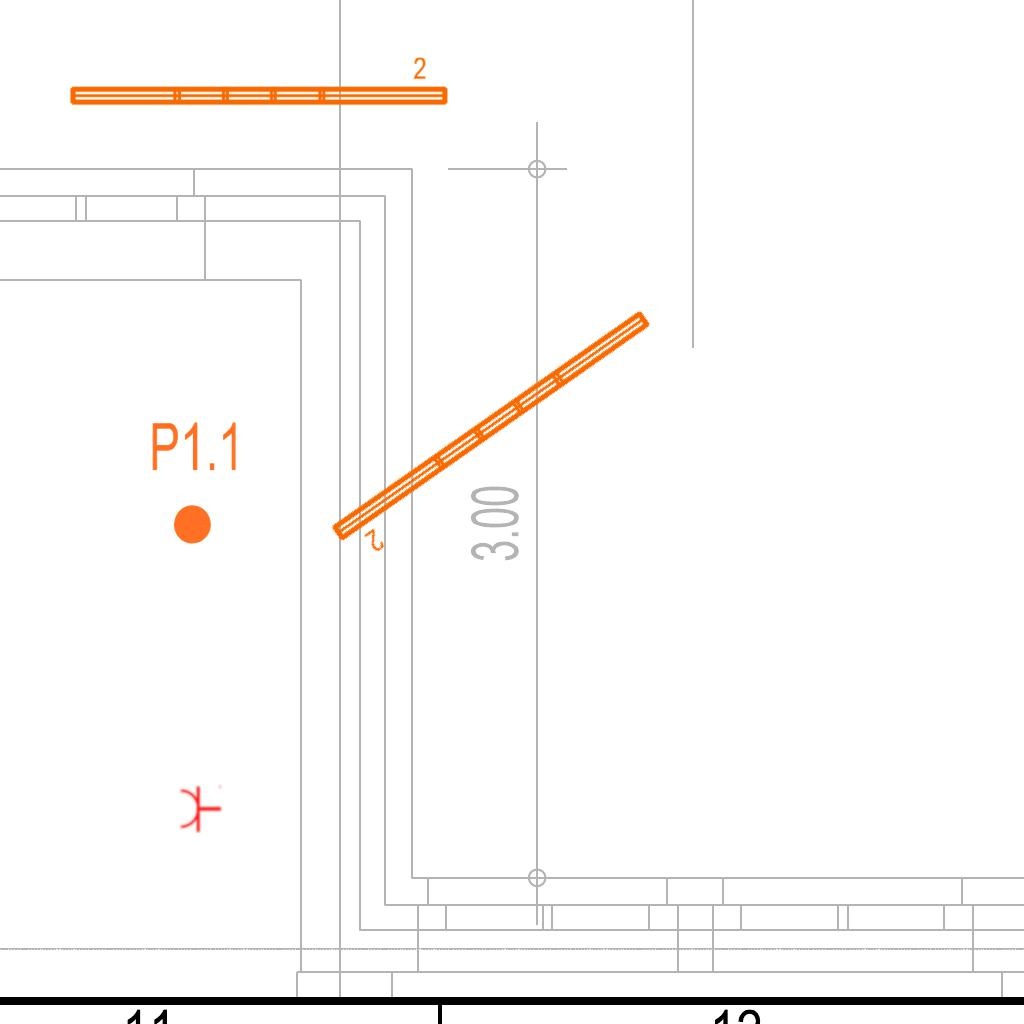Ambulanz_Pendelleuchte_LED: (323, 302, 674, 570), (65, 55, 452, 111)
Downlight_LED_Einbauleuchten_Flur: (149, 419, 242, 547)
Schukosteckdose_einfach: (179, 783, 222, 833)
